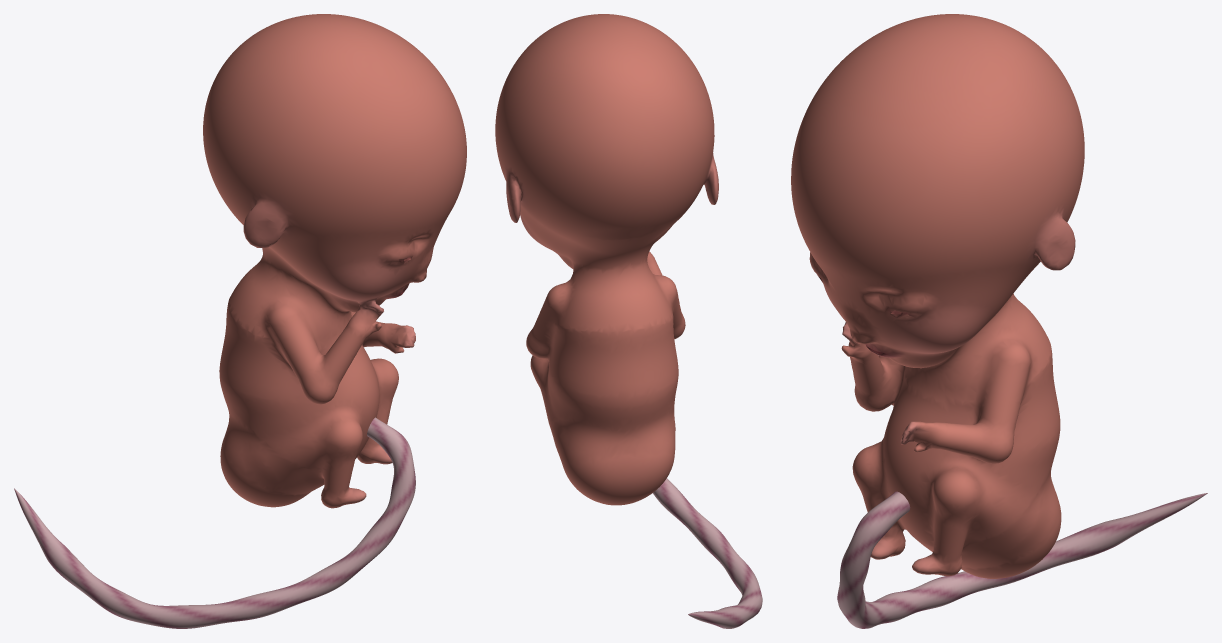
Rendered from week_10.glb.
The picture shows the model from 3 angles, left to right: view 1: azimuth 30°, elevation 25°; view 2: azimuth 150°, elevation 25°; view 3: azimuth 270°, elevation 25°; orthographic projection. The views are drawn at different scales.
Visible parts, largest first — view 1: skin, cord; view 2: skin, cord; view 3: skin, cord.
Part boxes in pixels (x1=…): skin: x1=203, y1=14, x2=466, y2=508; cord: x1=14, y1=417, x2=415, y2=628; skin: x1=495, y1=14, x2=718, y2=505; cord: x1=653, y1=478, x2=762, y2=628; skin: x1=791, y1=14, x2=1084, y2=578; cord: x1=837, y1=491, x2=1207, y2=628.
Size of the model in its own units: 1.81 by 3.05 by 1.74.
